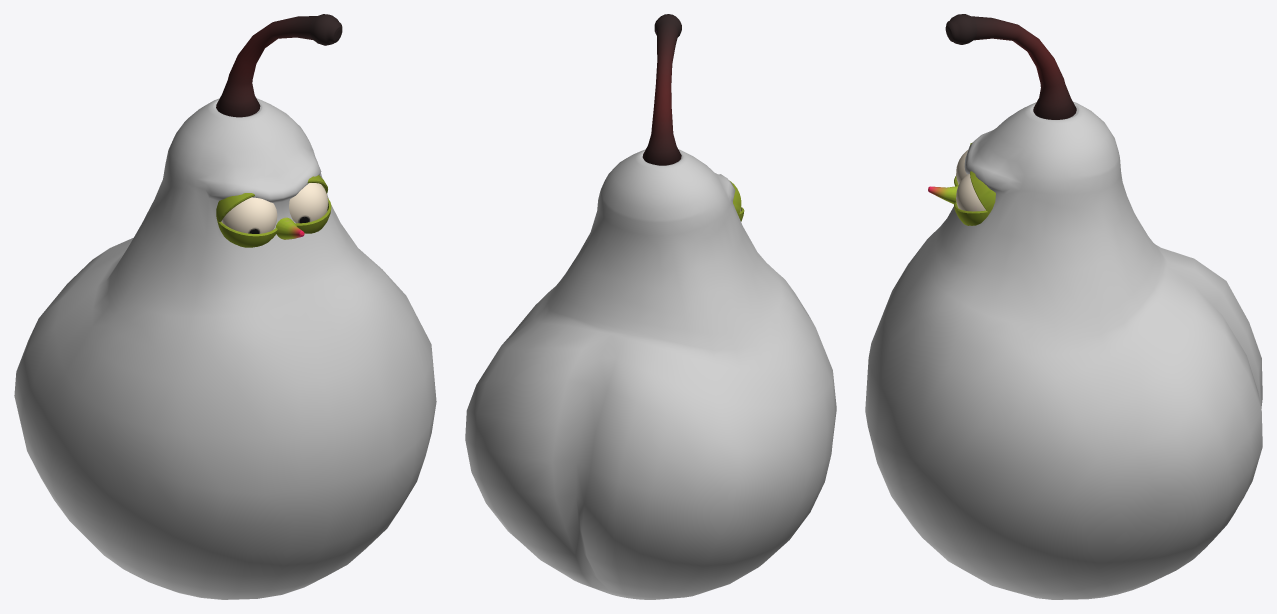
File: PlayerModel.FBX
The picture shows the model from 3 angles, left to right: view 1: azimuth 30°, elevation 25°; view 2: azimuth 150°, elevation 25°; view 3: azimuth 270°, elevation 25°; orthographic projection. The views are drawn at different scales.
Visible parts, largest first — view 1: Body014, stem014, Righteye014, Lefteye014, Eyelid028, Eyelid029; view 2: Body014, stem014; view 3: Body014, stem014, Lefteye014.
Boxes of the visible parts, x1=… form: Body014: x1=14, y1=98, x2=436, y2=599; stem014: x1=216, y1=14, x2=342, y2=117; Righteye014: x1=222, y1=197, x2=277, y2=233; Lefteye014: x1=289, y1=183, x2=328, y2=223; Eyelid028: x1=217, y1=198, x2=331, y2=247; Eyelid029: x1=216, y1=175, x2=327, y2=222; Body014: x1=465, y1=149, x2=836, y2=599; stem014: x1=642, y1=14, x2=681, y2=165; Body014: x1=865, y1=101, x2=1262, y2=599; stem014: x1=945, y1=14, x2=1076, y2=119; Lefteye014: x1=956, y1=174, x2=985, y2=211.
Bounding box in the file's own units: 62.58 × 101 × 61.95.
